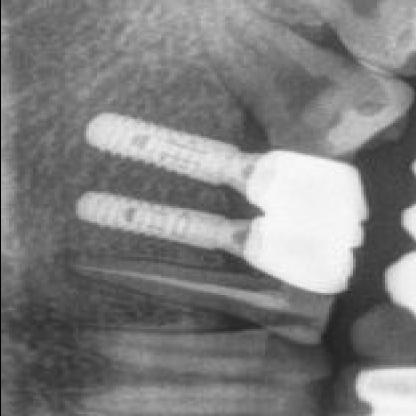ITI: (85, 107, 242, 192), (64, 184, 230, 257)
